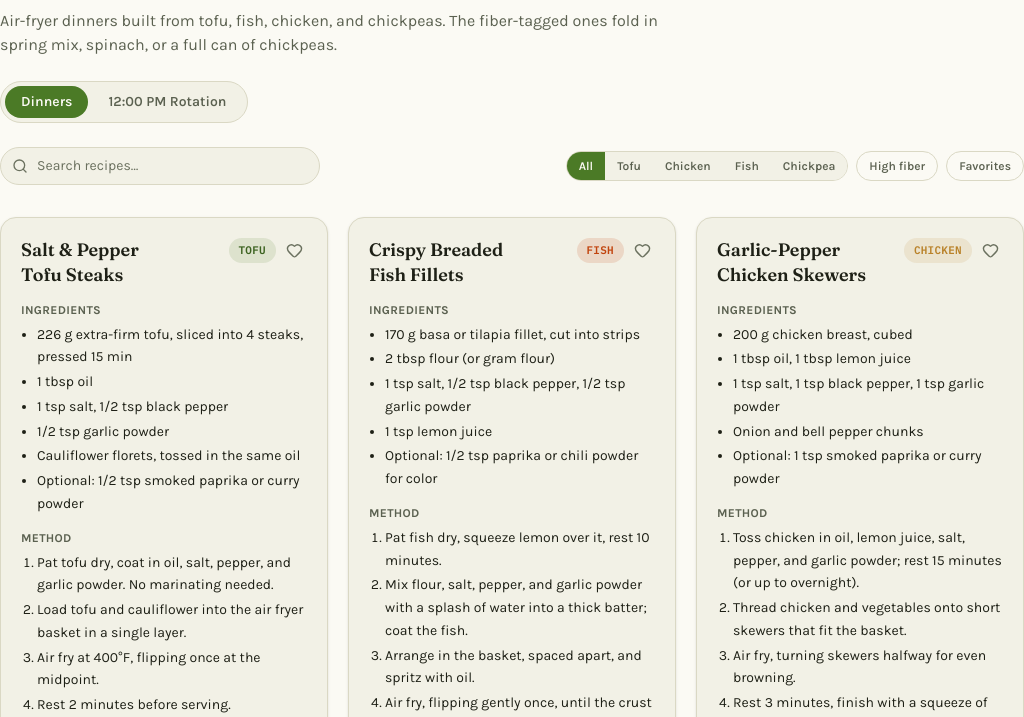
Test case: Recipes › switches to the breakfast tab
This screenshot has width=1024, height=717.
Step 1. Click the button "12:00 PM Rotation" → (167, 102), box x1=92 y1=86 x2=242 y2=118
(page scrolled)
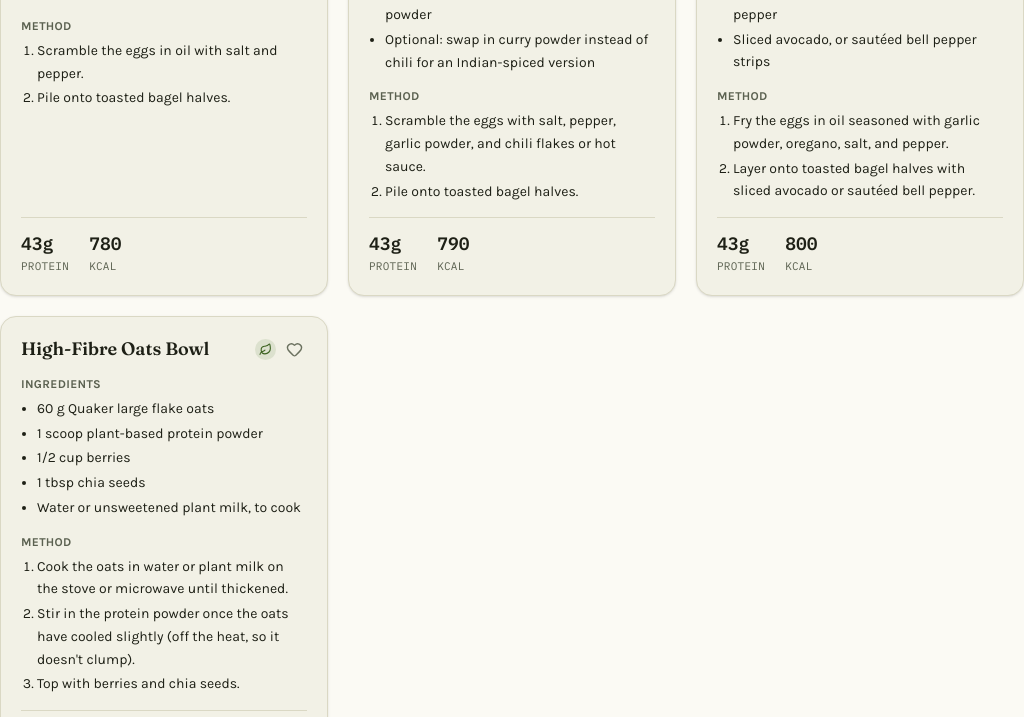
Expected: the heading "High-Fibre Oats Bowl" is shown, x1=21 y1=337 x2=209 y2=362
Expected: the heading "Salt & Pepper Tofu Steaks" is gone
